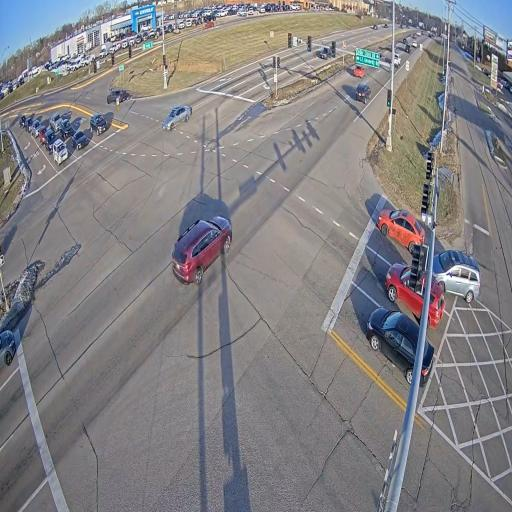pickup: (107, 89, 125, 104), (50, 112, 62, 132), (32, 120, 41, 138), (353, 65, 365, 78), (393, 53, 401, 67), (405, 43, 412, 53), (372, 24, 377, 29), (417, 31, 422, 36)
sedan: (366, 307, 434, 386), (377, 210, 425, 252), (162, 106, 191, 129), (0, 330, 16, 367), (72, 131, 87, 150)
suv: (172, 217, 232, 285), (385, 263, 426, 324), (427, 277, 445, 327), (52, 138, 69, 165), (90, 113, 108, 136), (355, 82, 371, 104), (45, 129, 58, 154), (60, 119, 73, 140), (318, 47, 330, 59), (39, 125, 46, 144), (25, 117, 33, 131), (19, 115, 26, 127), (411, 40, 417, 47), (402, 37, 407, 44), (383, 23, 388, 28), (412, 34, 416, 38)
van: (433, 249, 481, 302)
